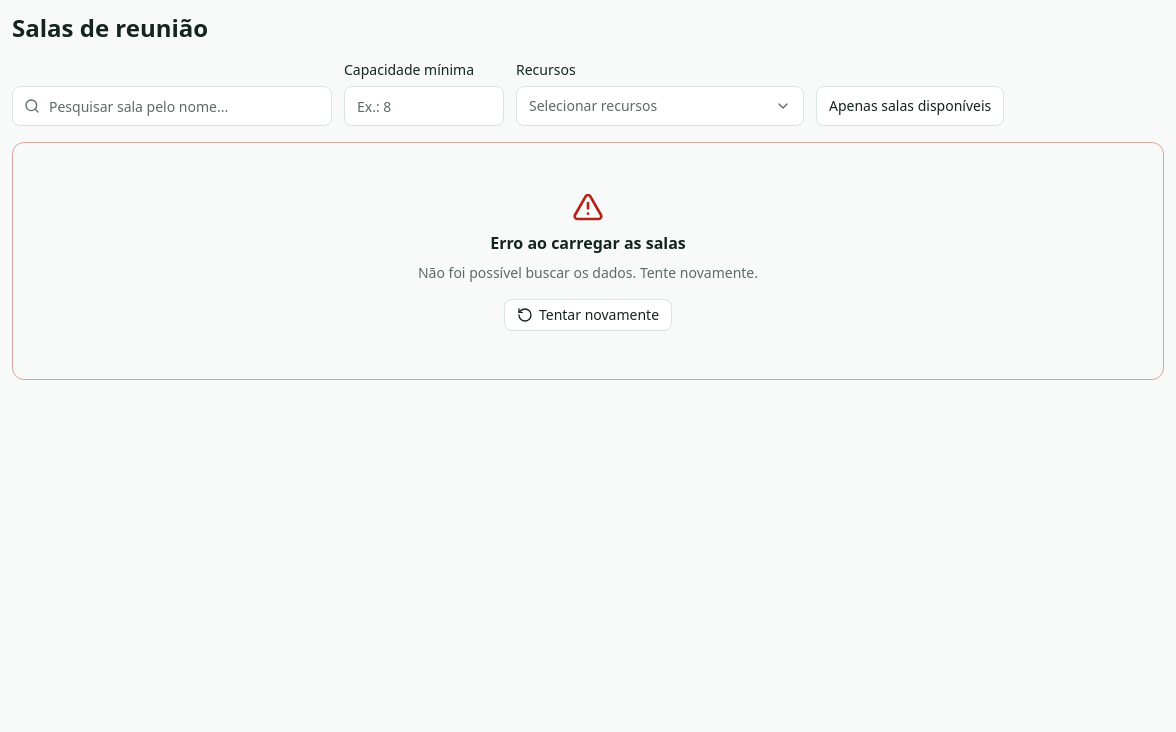
Test: Home (rooms listing) › shows the error state and recovers on retry
The image size is (1176, 732).
Expected: the heading "Erro ao carregar as salas" is shown, [490,231,686,255]
Click the button "Tentar novamente": (588, 315) [504,299,672,331]
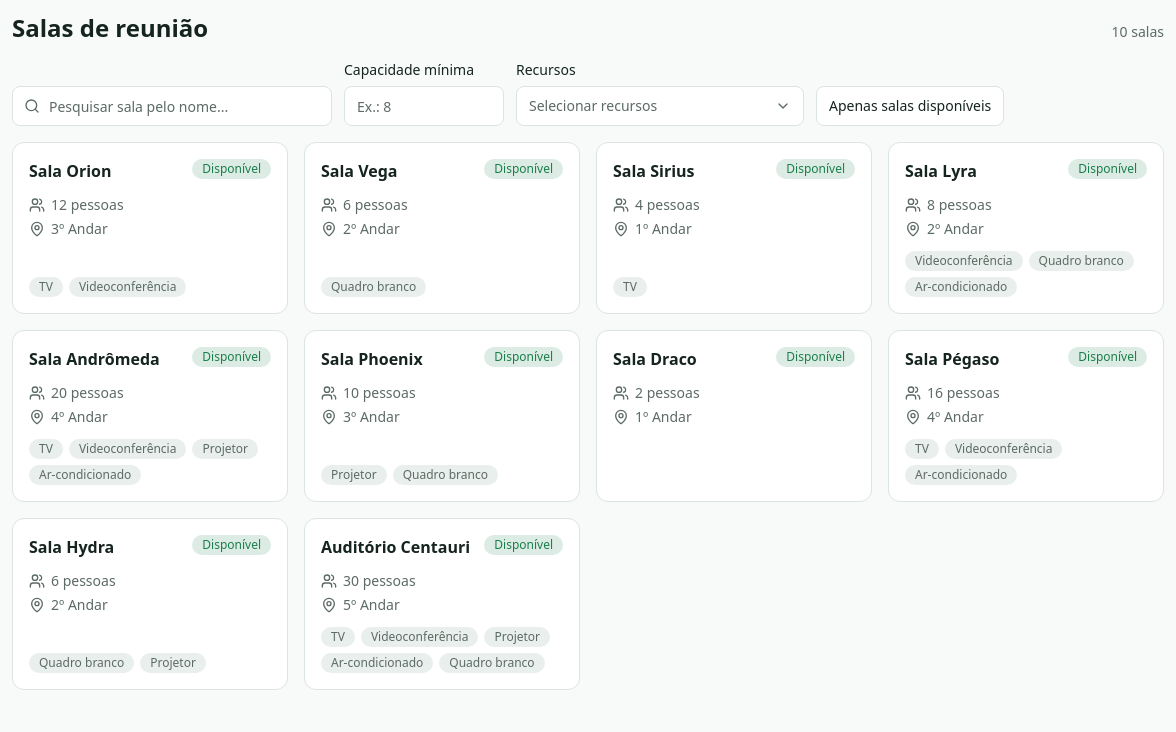
Now the heading "Sala Orion" is shown, box [29,159,112,183]
